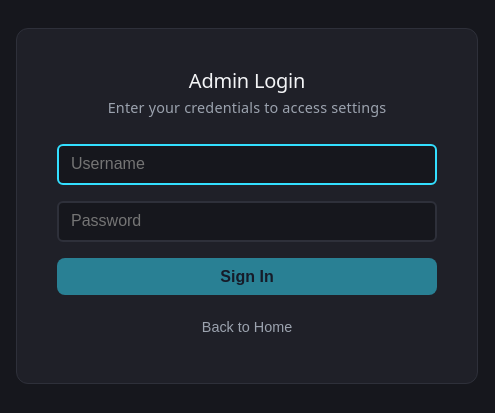
Test case: AdminLogin › shows 'Login failed' when response body has no error field
The width and height of the screenshot is (495, 413).
In the field with placeholder "Username": (247, 164) [57,144,437,185], type "admin"
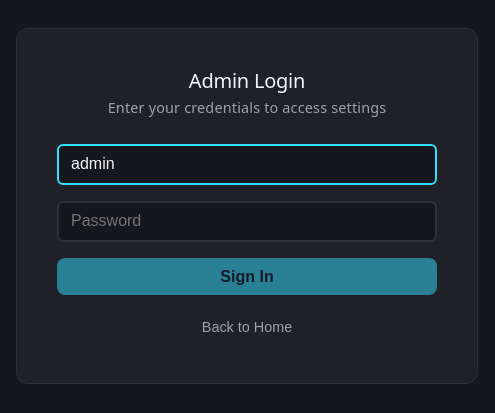
In the password field with placeholder "Password": (247, 221) [57,201,437,242], type "pass"
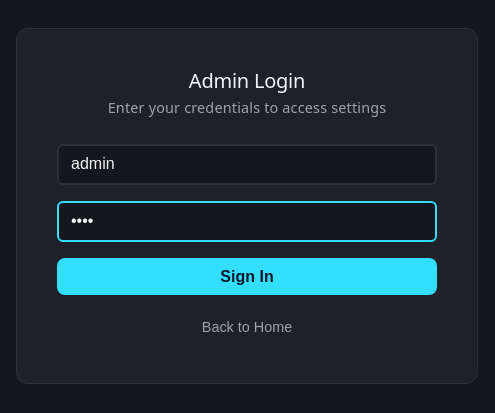
Click the button "Sign In": (247, 277) [57,258,437,295]
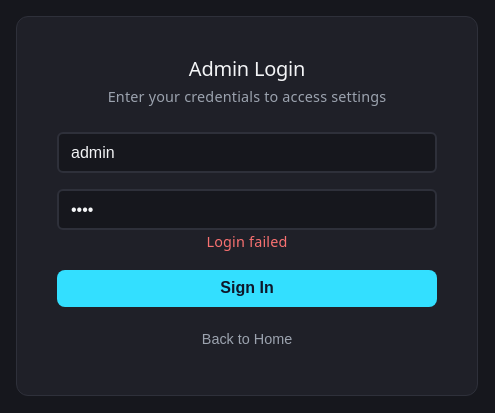
Check: the text "Login failed" is shown, box [206,232,288,251]
